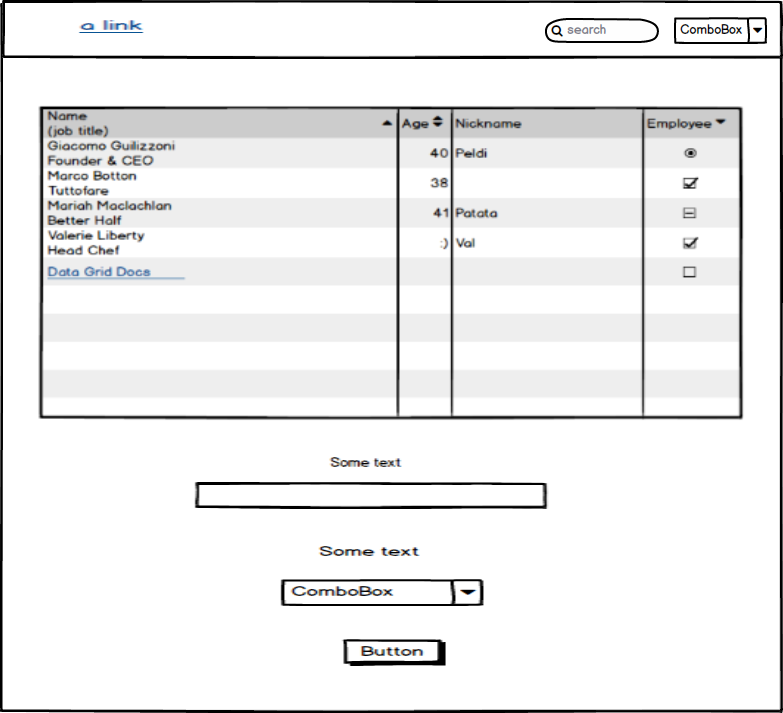button: (339, 632, 454, 671)
input: (192, 473, 554, 518)
label: (315, 537, 429, 564), (316, 448, 408, 470)
navlink: (71, 14, 149, 37)
search: (537, 11, 664, 48)
select_box: (272, 570, 491, 617), (670, 11, 776, 48)
table: (34, 100, 748, 424)
